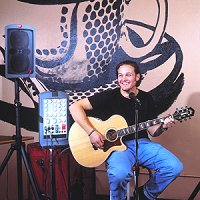guitar: (67, 104, 196, 169)
